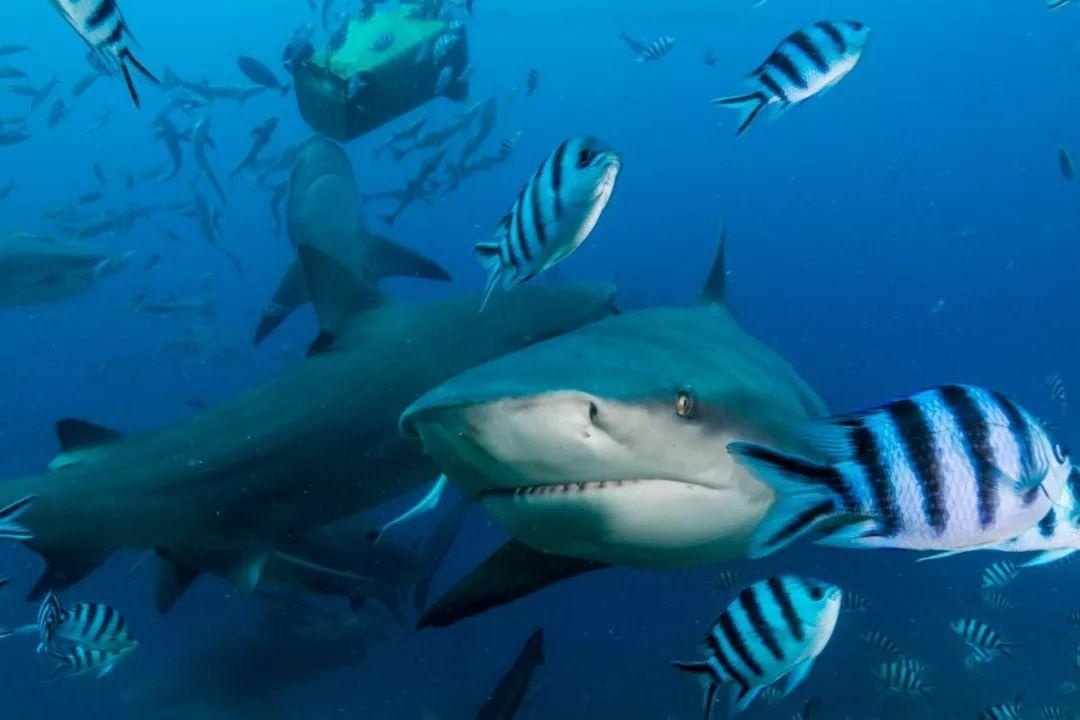fish: (2, 245, 625, 601), (377, 232, 821, 628)
